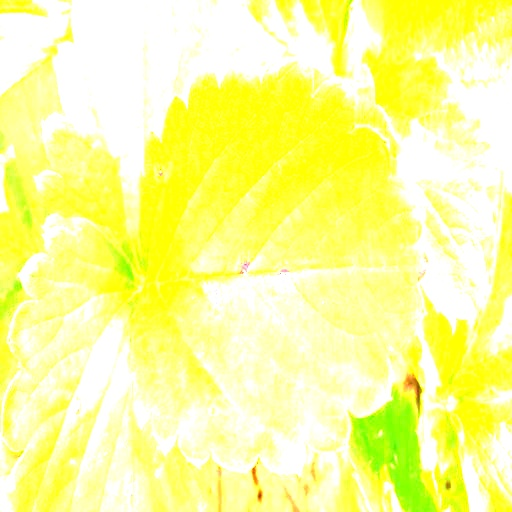Leaf Spot: (129, 57, 432, 476), (0, 216, 203, 511), (34, 0, 241, 284), (372, 0, 511, 170), (0, 54, 66, 256), (433, 444, 472, 511)
